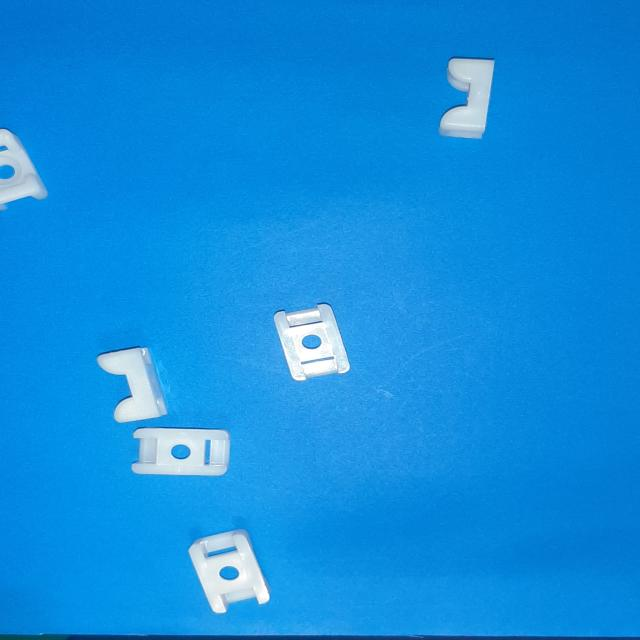false_1: (188, 530, 270, 612), (273, 304, 350, 381), (132, 428, 230, 475)
false_2: (97, 348, 167, 422), (438, 58, 495, 139)
true: (0, 129, 48, 205)
